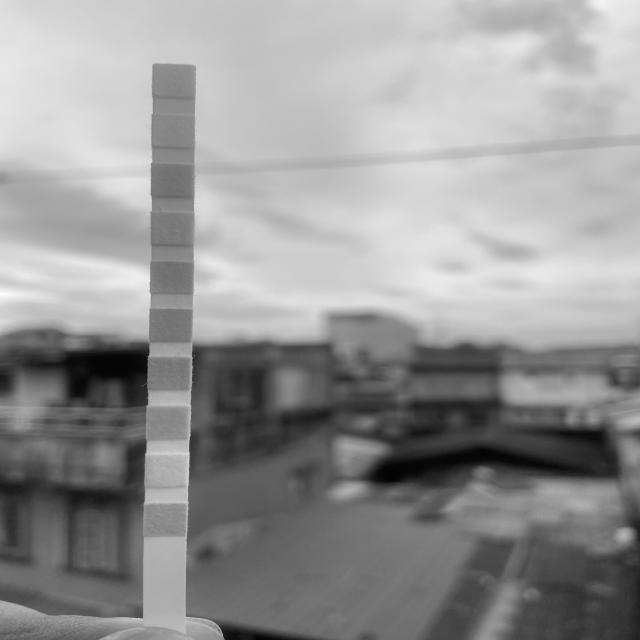Bilirubin: (146, 457, 188, 486)
Blood: (152, 310, 192, 342)
Glucose: (145, 506, 185, 536)
Ketone: (148, 408, 190, 438)
Leukocytes: (154, 67, 195, 96)
Nitrite: (152, 116, 195, 147)
Protein: (154, 214, 192, 244)
SpGravity: (149, 358, 190, 390)
Urobilinogen: (153, 164, 193, 196)
background: (0, 0, 640, 640)
pH: (152, 264, 192, 294)
strip: (144, 64, 196, 622)
